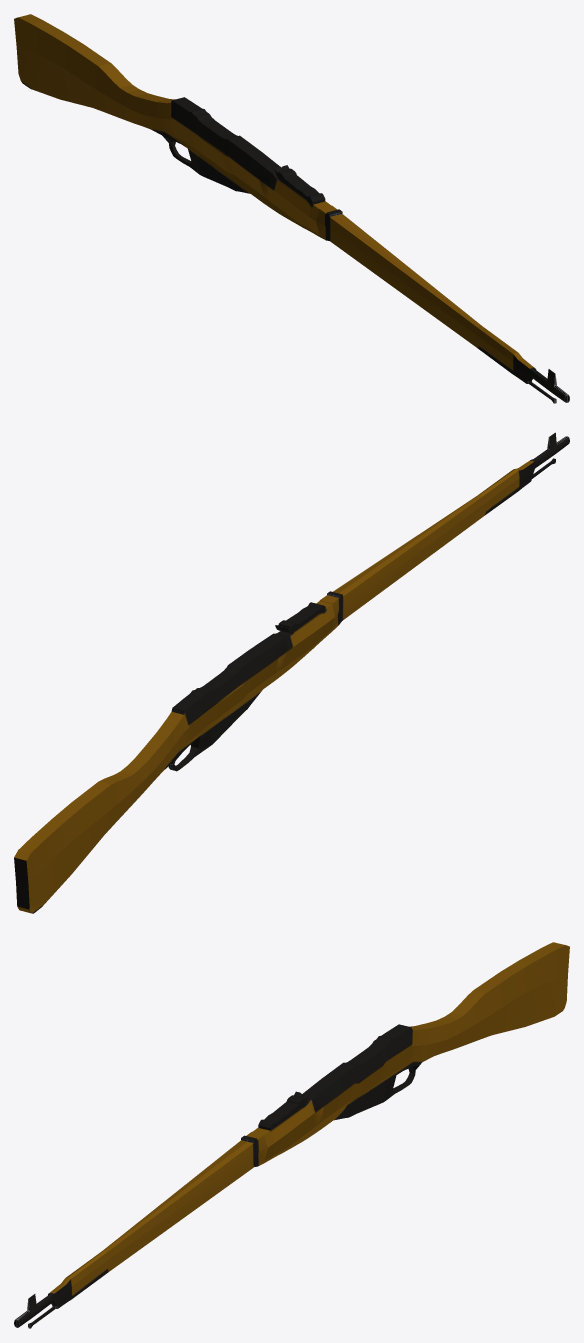
File: TextRifle.fbx
3 views of the same model, one above another, from view 1: azimuth 30°, elevation 25°; view 2: azimuth 150°, elevation 25°; view 3: azimuth 330°, elevation 25° (orthographic).
Visible parts, largest first — view 1: pasted__pPlane3; view 2: pasted__pPlane3; view 3: pasted__pPlane3.
Boxes of the visible parts, x1=… form: pasted__pPlane3: x1=14, y1=14, x2=569, y2=403; pasted__pPlane3: x1=14, y1=432, x2=569, y2=913; pasted__pPlane3: x1=14, y1=942, x2=569, y2=1328.
Bounding box in the file's own units: 0.7958 × 4.07 × 39.74.
1 material, 1 textured.
